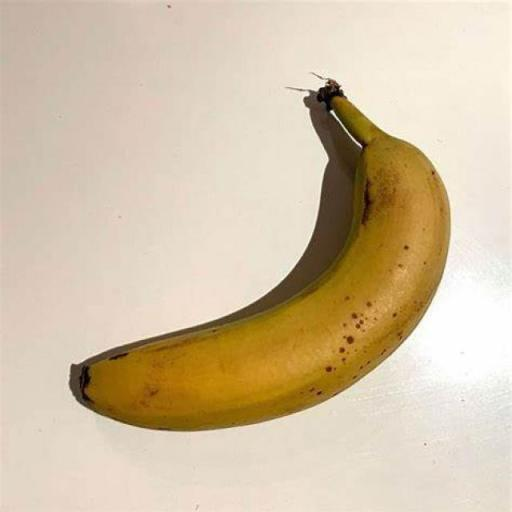fruit: (80, 80, 449, 430)
